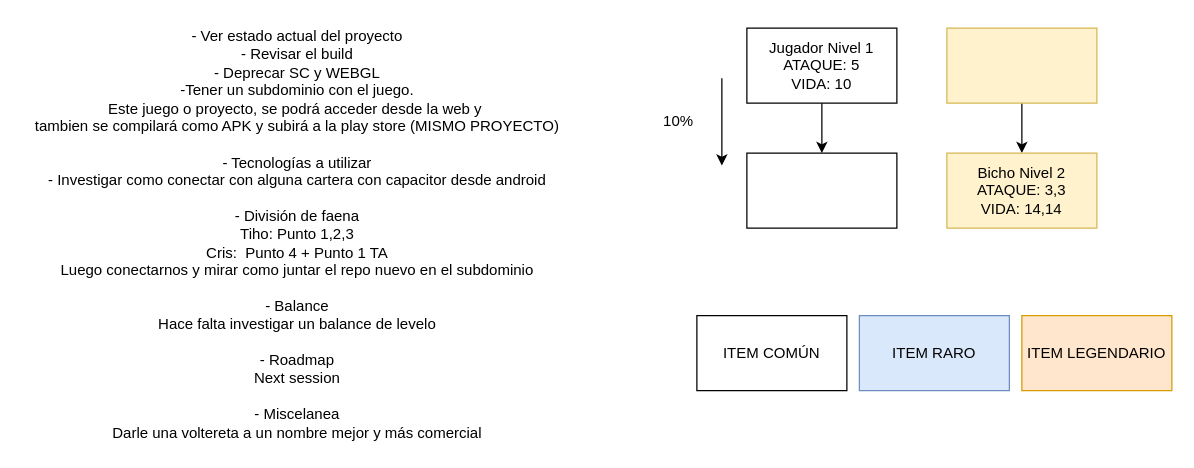
Some shapes in this 1194 by 468 pixel diagram are drawn without their labels. The shapes that lost their labels are listed below. From the top down, each one's box as (x1, y1, x2, y2) in pixels, then its label:
(946, 27, 1097, 103): Bicho Nivel 1 ATAQUE: 3 VIDA: 14
(746, 152, 897, 228): Jugador Nivel 2 ATAQUE: 5,5 VIDA: 10,1
